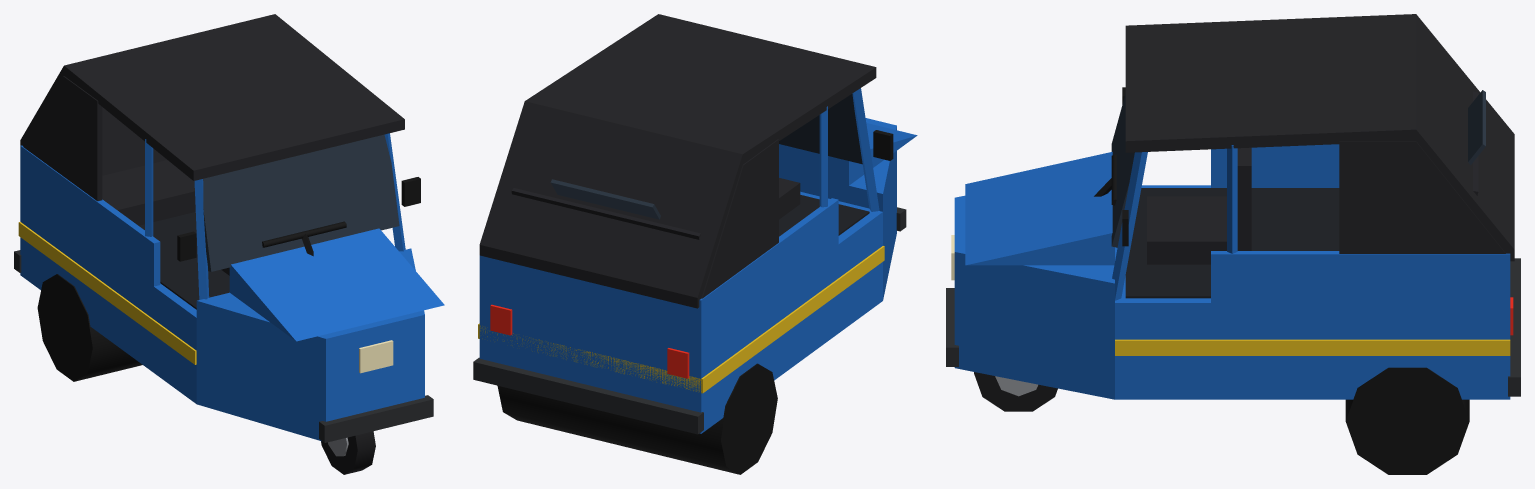
The model's file is bajaj.glb.
3 views of the same model, side by side, from view 1: azimuth 30°, elevation 25°; view 2: azimuth 150°, elevation 25°; view 3: azimuth 270°, elevation 25° (orthographic). The views are drawn at different scales.
Parts seen in each view (by area): view 1: body, wheel_f; view 2: body; view 3: body, wheel_f.
Boxes of the visible parts, <box> form: body: <box>14,14,444,442</box>; wheel_f: <box>321,431,375,474</box>; body: <box>473,14,917,474</box>; body: <box>946,14,1520,474</box>; wheel_f: <box>974,372,1057,411</box>.
Size of the model in its own units: 1.46 by 1.78 by 2.69.
Materials: 1 (1 with a texture image).
